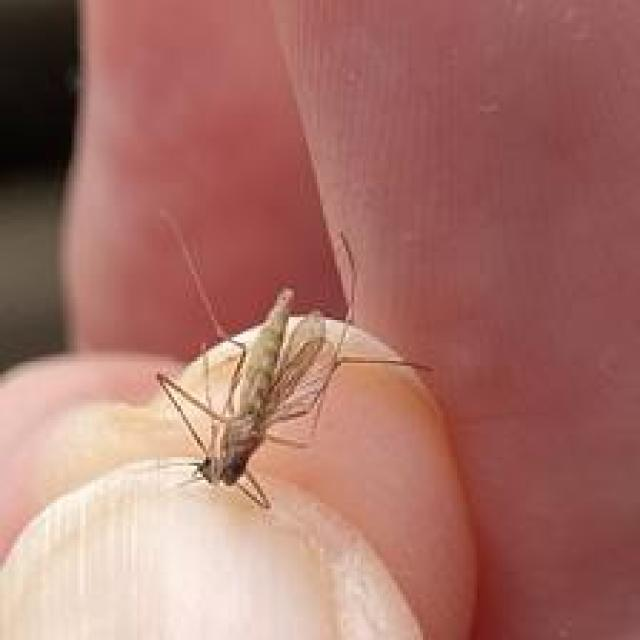Culex: (152, 208, 434, 512)
